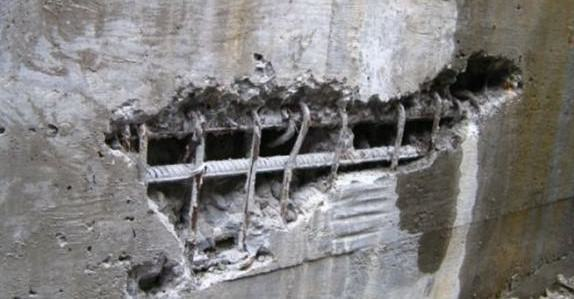Exposed reinforcement: (138, 99, 464, 141), (145, 145, 424, 184), (279, 100, 312, 219), (183, 109, 208, 264), (238, 107, 263, 249), (329, 108, 350, 184), (390, 100, 407, 171), (269, 107, 296, 149), (427, 90, 443, 151), (138, 124, 149, 190), (454, 88, 480, 110), (446, 98, 464, 127), (120, 122, 133, 154)
Spalling: (101, 49, 522, 289), (55, 183, 138, 276), (125, 252, 184, 299), (1, 121, 60, 137), (11, 287, 65, 299), (96, 150, 105, 160)
